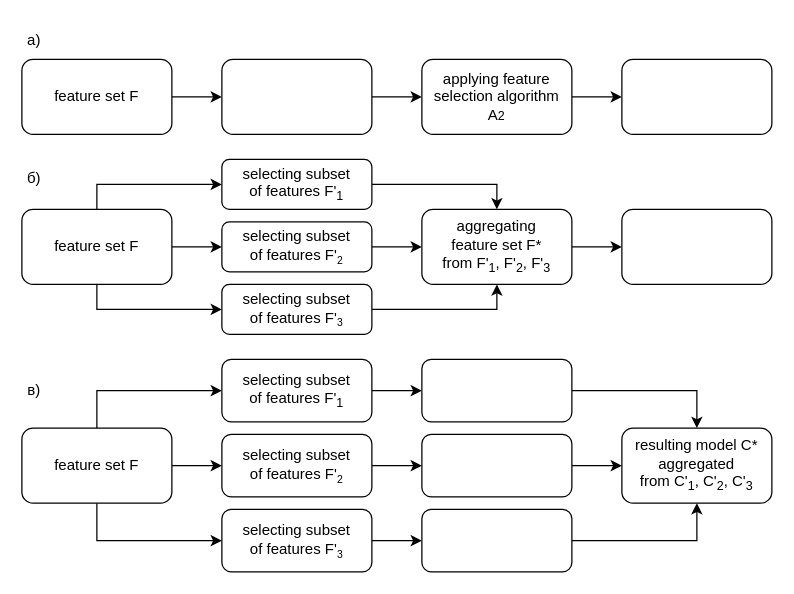
This 794x594 diagram has some shape labels left out. Here are the shapes that lost their labels. From the top down, the box of each, then its label:
(221, 58, 372, 134): applying feature selection algorithm A 1
(621, 58, 772, 134): feature set F'
(621, 208, 772, 284): resulting classifier C* on feature subset F*
(421, 358, 572, 422): trainning model C' 1 on feature subset F' 1
(421, 433, 572, 497): trainning model C' 2 on feature subset F' 2
(421, 508, 572, 572): trainning model C' 3 on feature subset F' 3
